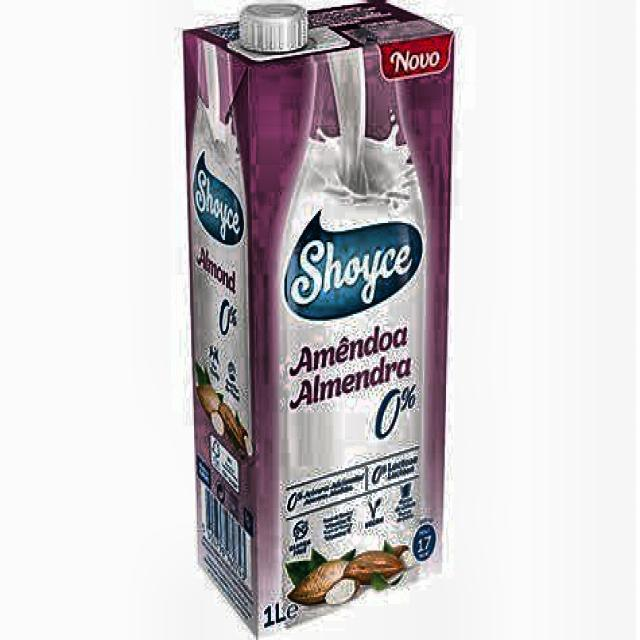cardboard: (180, 0, 455, 638)
